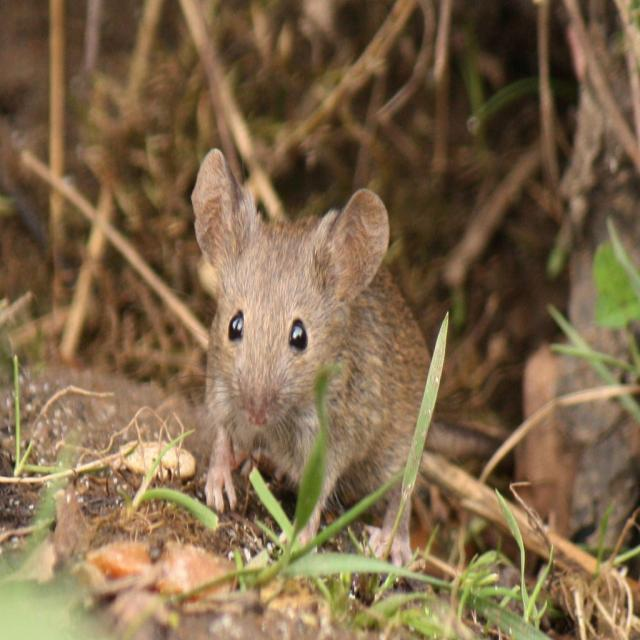rat: (190, 144, 432, 573)
